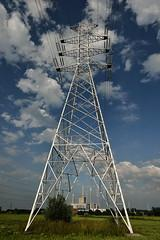power_tower: (24, 21, 138, 234)
